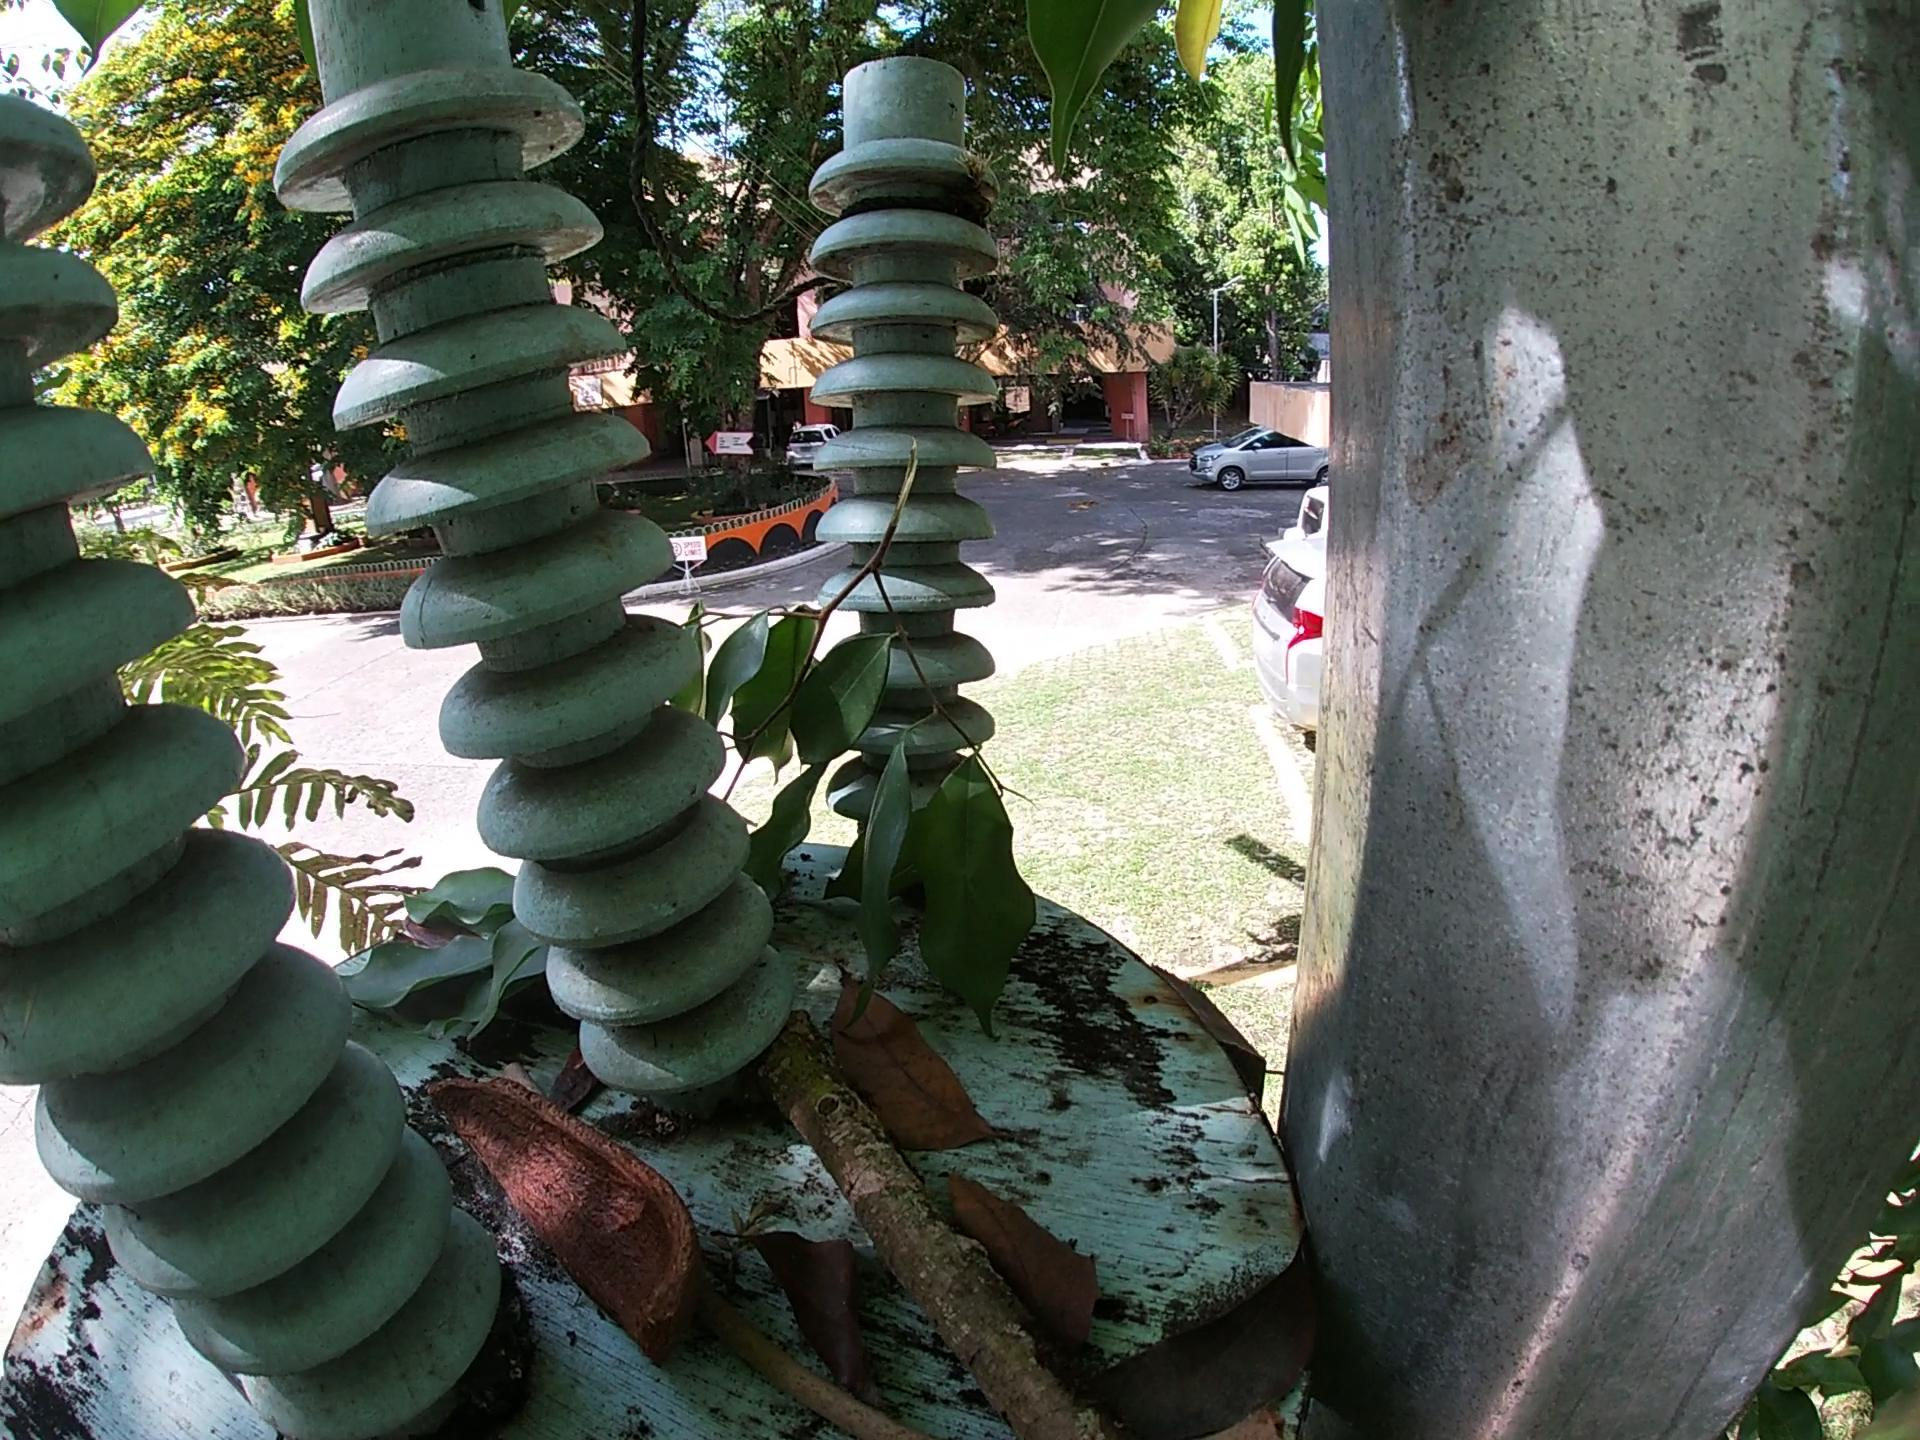branch with leaves: (689, 439, 1054, 995)
leaf: (1087, 1234, 1330, 1429), (340, 861, 559, 1048), (831, 967, 998, 1163), (948, 1166, 1117, 1343), (736, 1218, 872, 1355)
mahogany fruit: (413, 1077, 705, 1358)
tree branch: (759, 1016, 1110, 1440), (692, 1272, 943, 1440), (491, 1044, 550, 1101)
